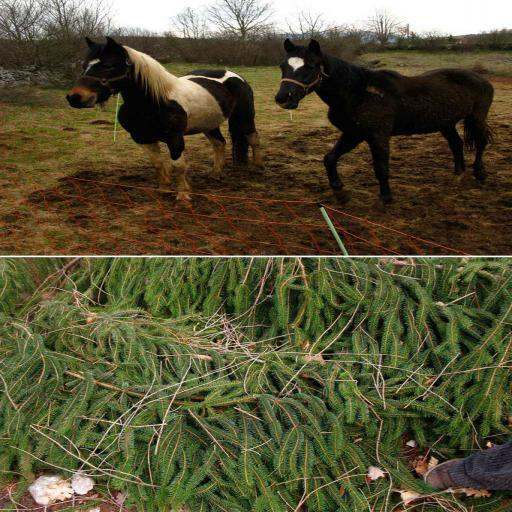Horse: (274, 37, 500, 205), (62, 32, 262, 211)
